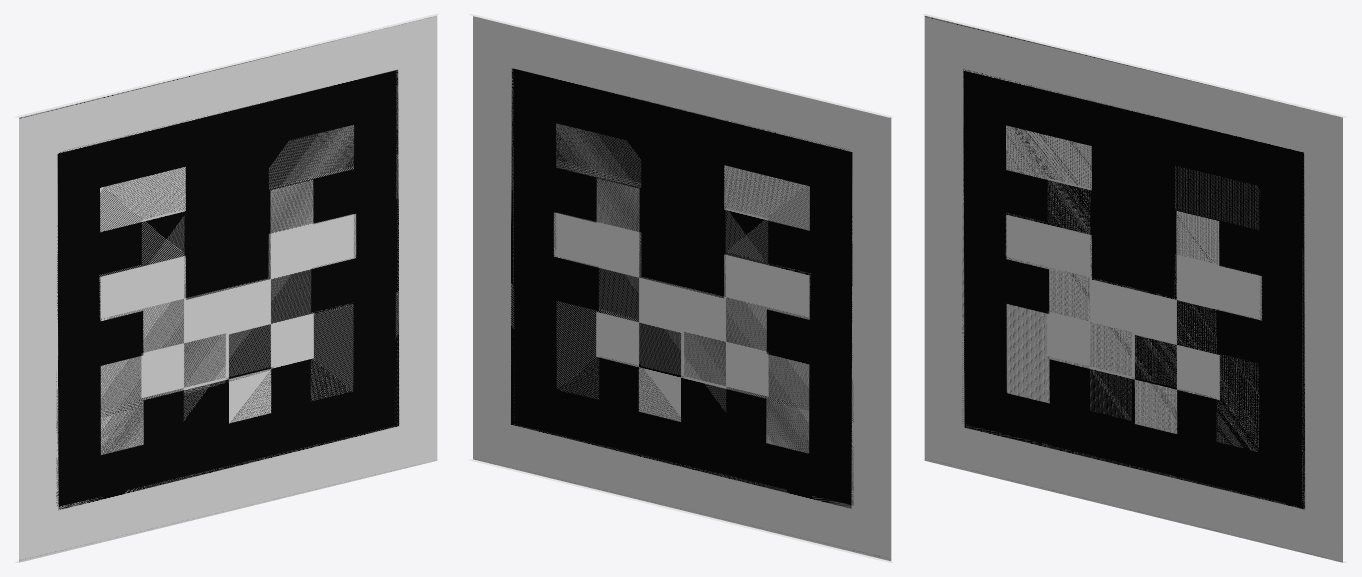
The model's file is top_plate_texture2.dae.
3 renders of one model, left to right at view 1: azimuth 30°, elevation 25°; view 2: azimuth 150°, elevation 25°; view 3: azimuth 330°, elevation 25°, orthographic.
Visible parts, largest first — view 1: skpD1E; view 2: skpD1E; view 3: skpD1E.
Part boxes in pixels (<box>): skpD1E: <box>15,14,438,562</box>; skpD1E: <box>469,14,892,562</box>; skpD1E: <box>923,14,1346,562</box>.
Size of the model in its own units: 19.22 by 0.1602 by 19.22.
Materials: 1 (1 with a texture image).
